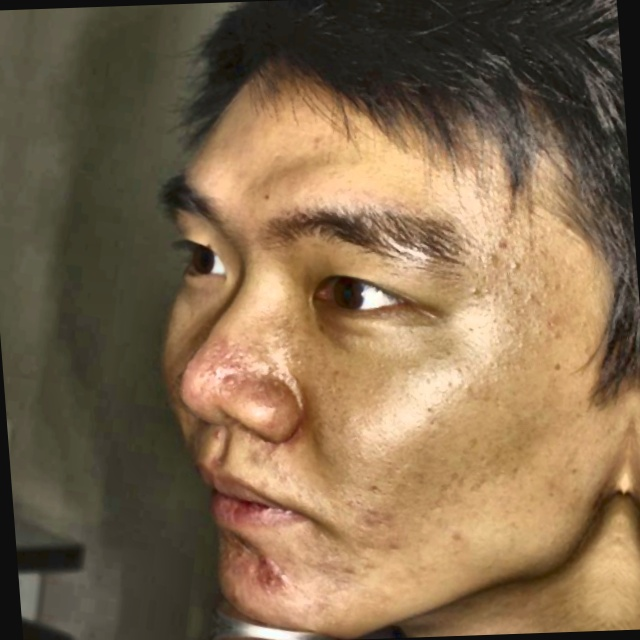comedone: (246, 551, 298, 601), (207, 424, 230, 445)
